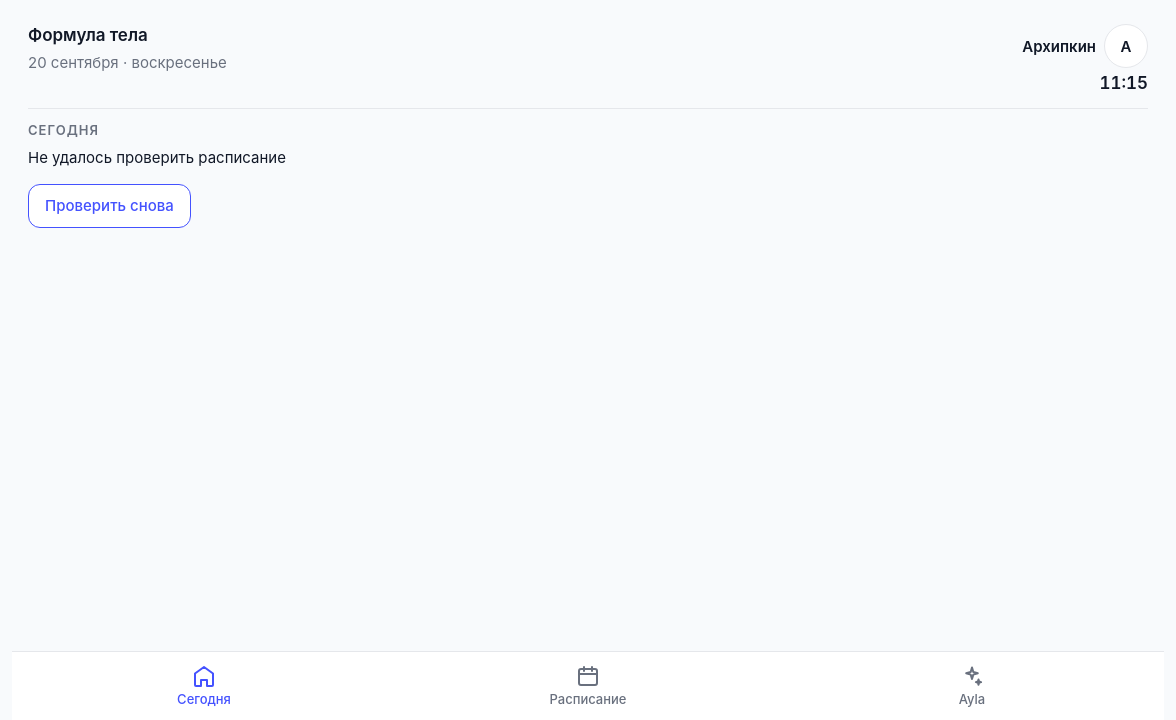
состояние 4 — записей нет › рамка дня не прочитана (day_off: null) — «Не удалось проверить расписание» + «Проверить снова»
The image size is (1176, 720).
Check: the text "Не удалось проверить расписание" is shown, box [28,148,286,167]
Check: the text "Сегодня у вас выходной по графику." is not shown
Click the button "Проверить снова".
click(109, 206)  # box [28,184,191,228]
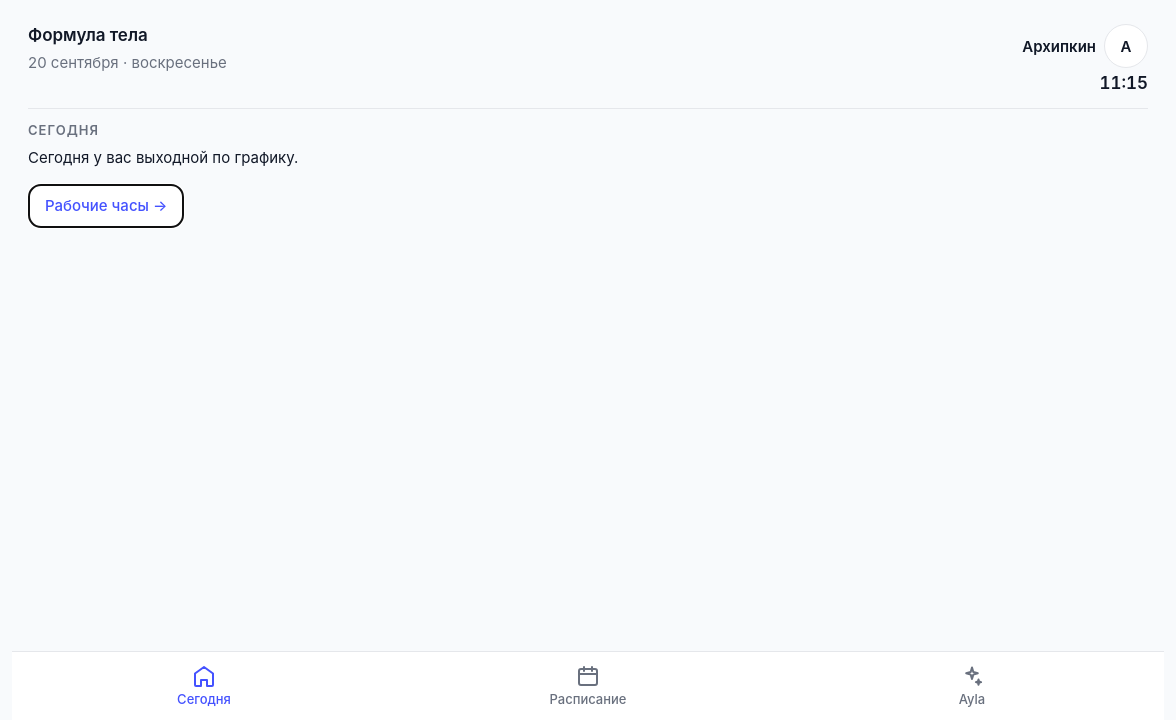
Check: the text "Сегодня у вас выходной по графику." is shown, box [28,148,298,167]
